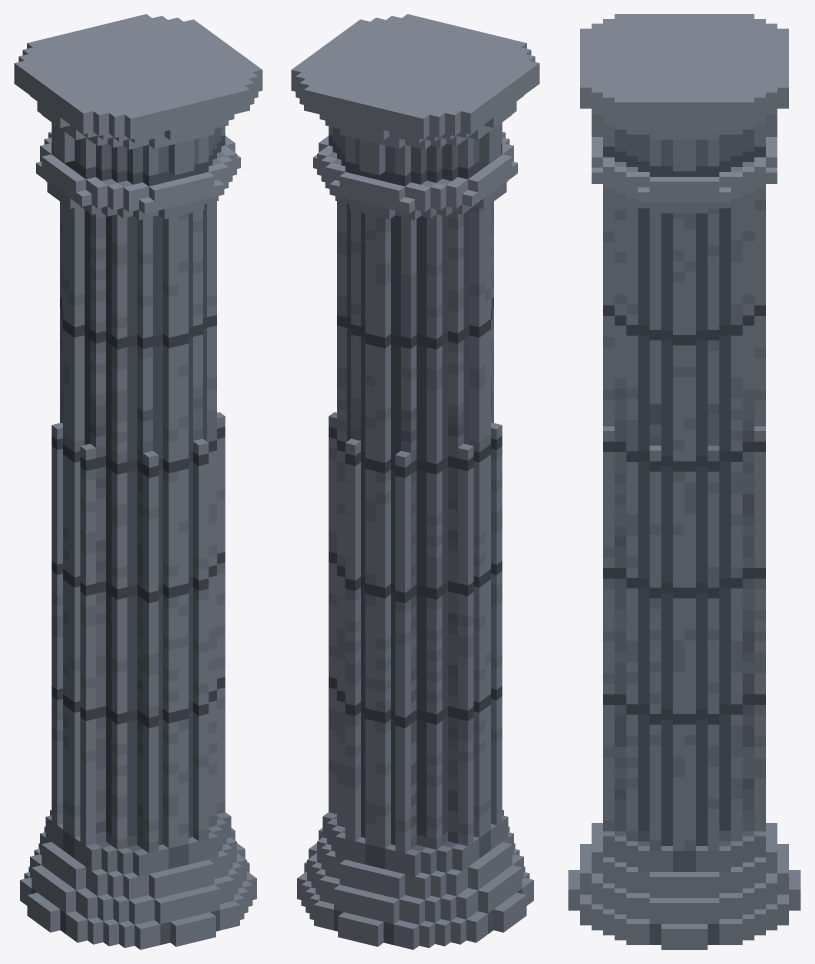
File: stone_pillar_h80.obj
3 views of the same model, side by side, from view 1: azimuth 30°, elevation 25°; view 2: azimuth 150°, elevation 25°; view 3: azimuth 270°, elevation 25° (orthographic).
Bounding box in the file's own units: 2 × 8 × 2.
Materials: 1 (1 with a texture image).
